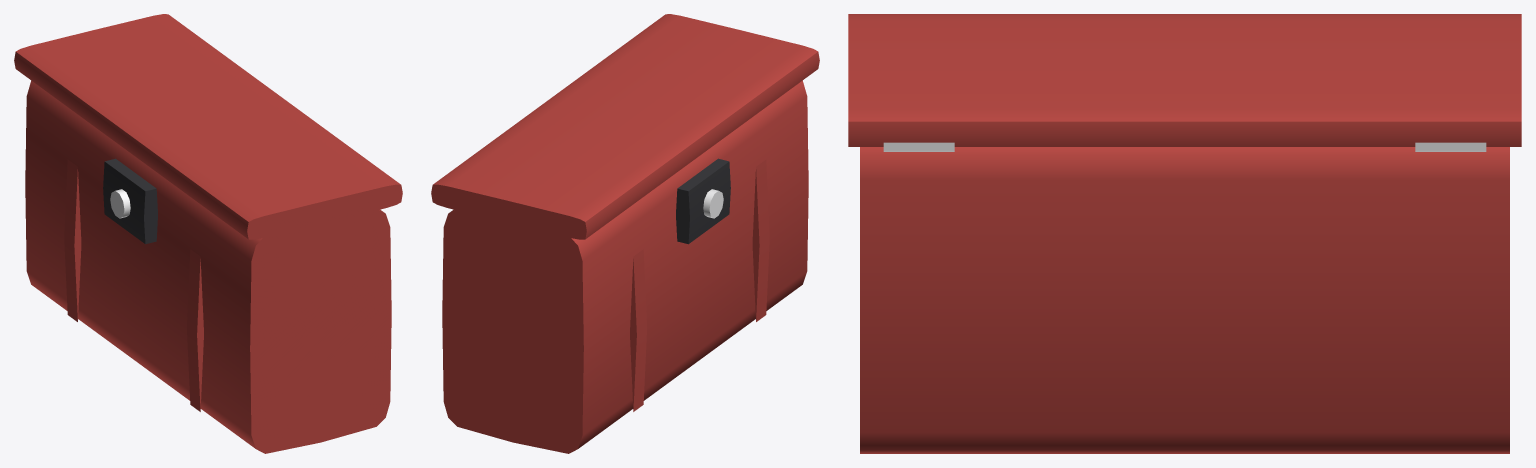
File: toolbox.glb
3 renders of one model, left to right at view 1: azimuth 30°, elevation 25°; view 2: azimuth 150°, elevation 25°; view 3: azimuth 270°, elevation 25°, orthographic. The views are drawn at different scales.
Parts seen in each view (by area): view 1: lod0; view 2: lod0; view 3: lod0.
Part boxes in pixels (x1=…): lod0: x1=14, y1=14, x2=402, y2=453; lod0: x1=431, y1=14, x2=819, y2=453; lod0: x1=848, y1=14, x2=1521, y2=453.
Size of what is drawn, in the model's own units: 0.0955 by 0.132 by 0.228.
